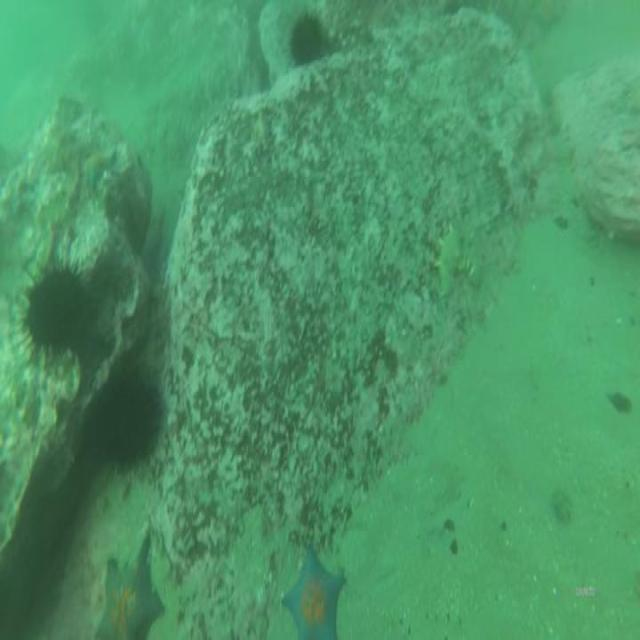echinus: (22, 261, 95, 360), (97, 365, 163, 465), (284, 12, 328, 64)
holothurian: (431, 216, 486, 306)
starfish: (282, 539, 346, 640), (100, 545, 162, 640)
